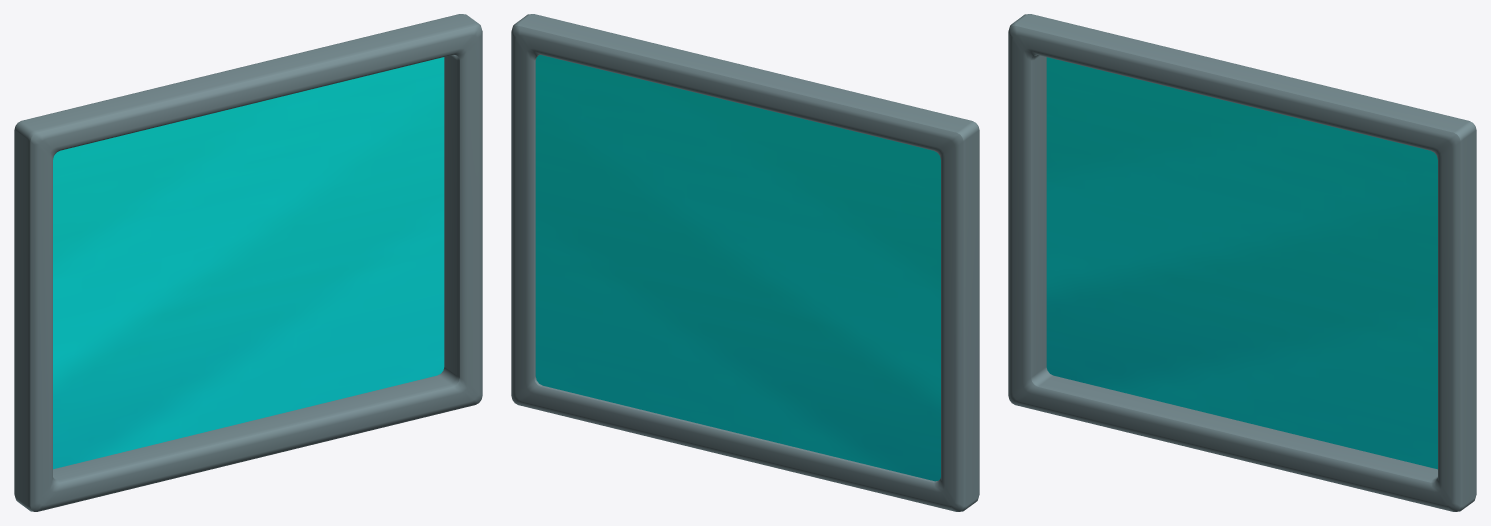
File: window.fbx
3 views of the same model, side by side, from view 1: azimuth 30°, elevation 25°; view 2: azimuth 150°, elevation 25°; view 3: azimuth 330°, elevation 25° (orthographic).
Parts seen in each view (by area): view 1: pCube47; view 2: pCube47; view 3: pCube47.
Boxes of the visible parts, x1,y1,x2,y2 form: pCube47: (14,14,482,511); pCube47: (511,14,979,511); pCube47: (1008,14,1476,511).
Size of the model in its own units: 11.06 by 8.88 by 0.8436.
